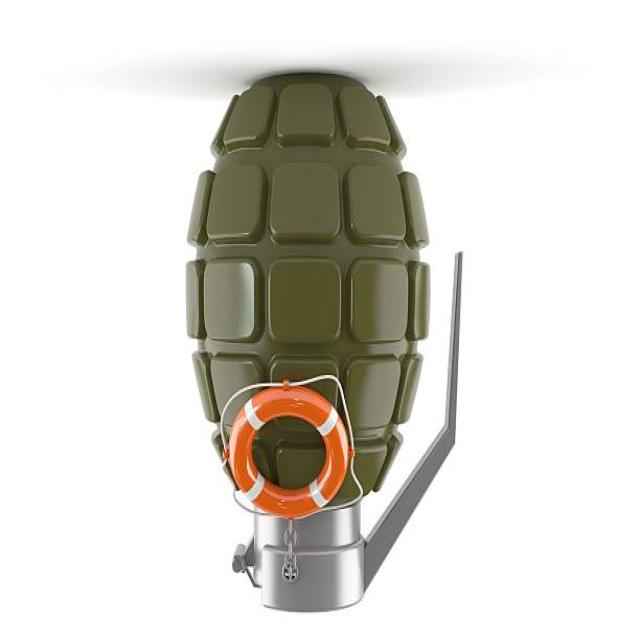grenade: (171, 55, 473, 632)
